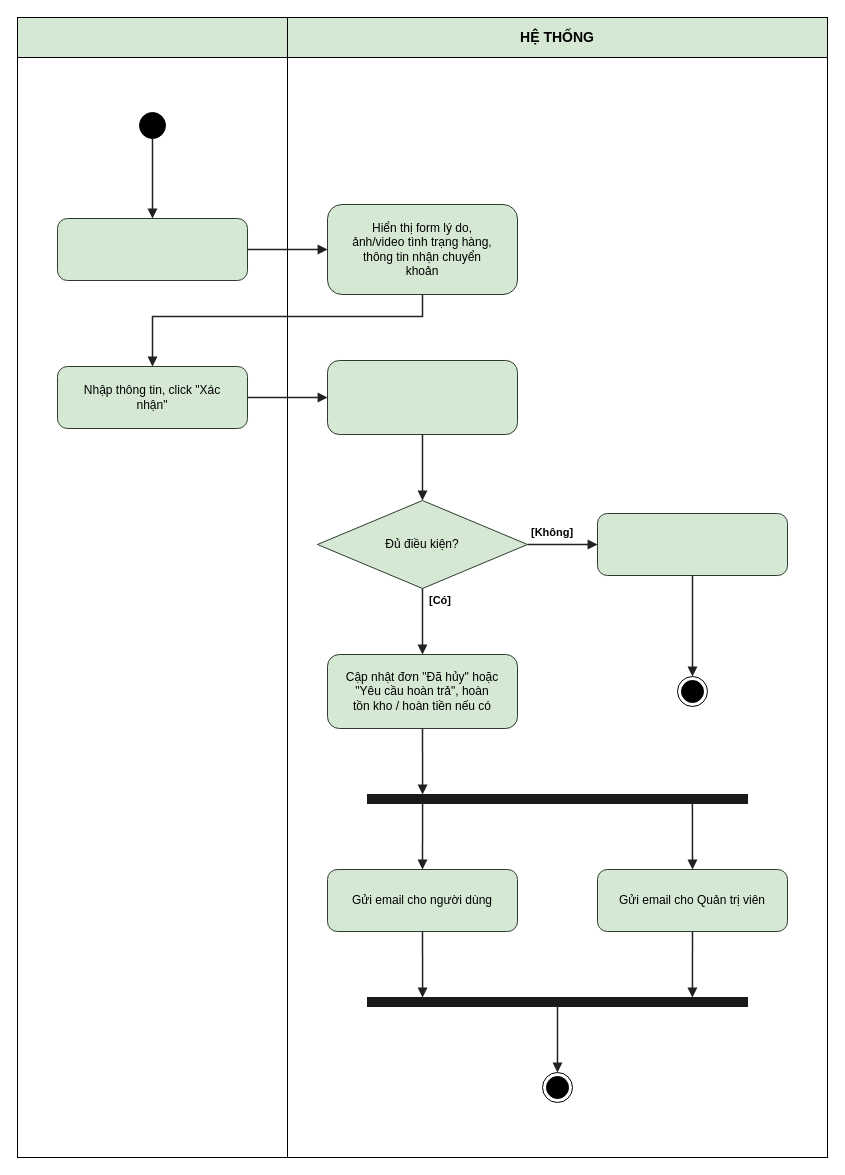
Image size: 845x1175. Some labels were removed from this diagram. The shapes that lost their labels are listed below. From the top down, each one's box as (x1, y1, x2, y2) in pixels, then its label:
(16, 16, 288, 58): NGƯỜI DÙNG
(56, 218, 248, 280): Chọn đơn, click "Hủy đơn hàng" hoặc "Trả Hàng"
(326, 360, 518, 434): Kiểm tra điều kiện (trạng thái đơn, 14 ngày, nhóm sản phẩm, số lần yêu cầu)
(596, 512, 788, 576): Thông báo thiếu thông tin hoặc không đủ điều kiện
